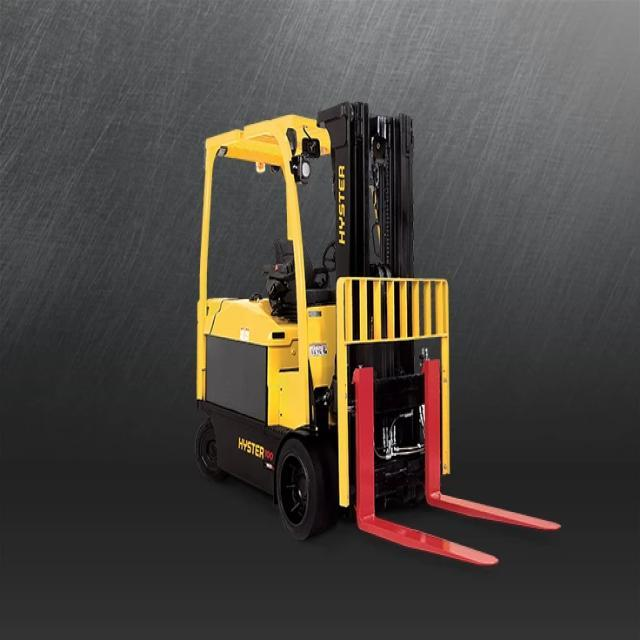forklift: (174, 76, 475, 546)
